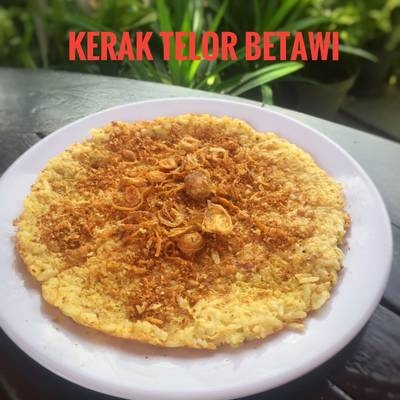kerak_telor: (21, 115, 353, 335)
